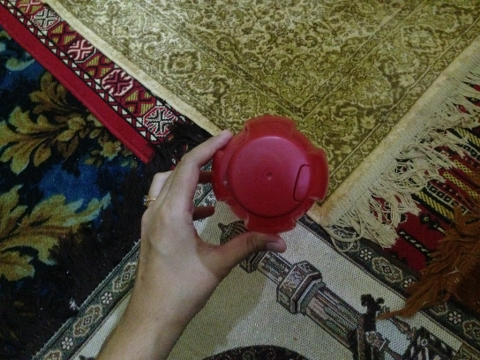tempat minum: (212, 116, 329, 235)
